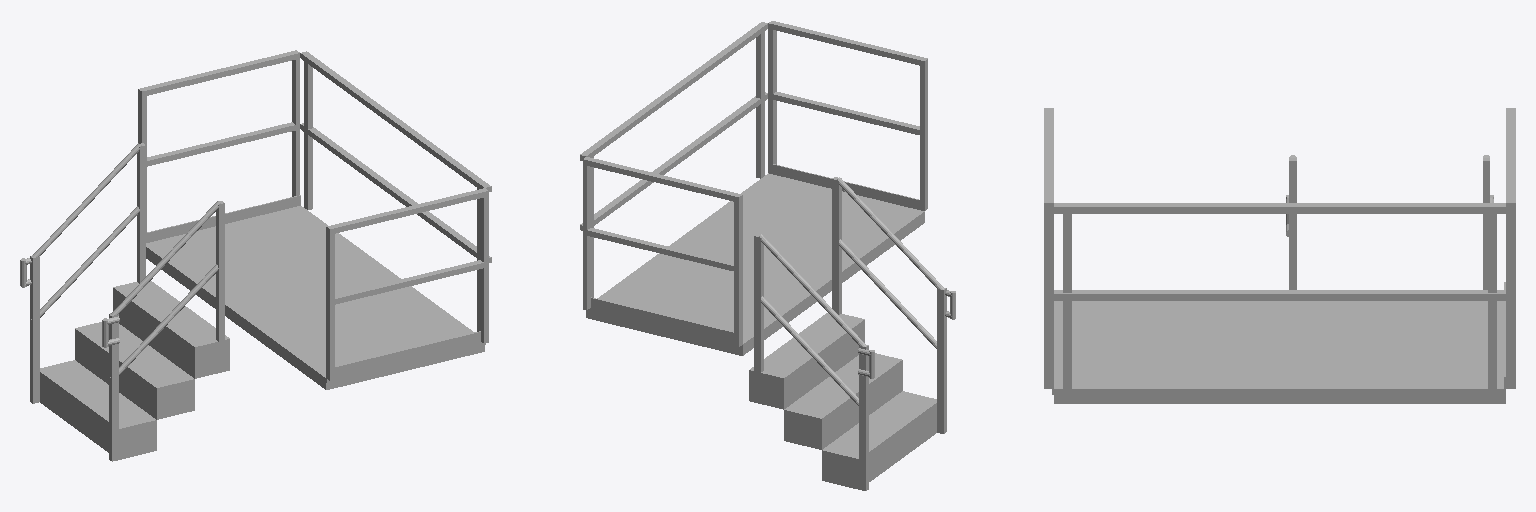
robot.urdf — drc-stair:
<?xml version="1.0"?>
<robot name="drc-stair"
       xmlns:xi="http://www.w3.org/2001/XInclude"
       >
  <gazebo>
    <static>false</static>
  </gazebo>
  <link name="nil_link">
    <visual>
      <origin xyz="0 0 0" rpy="0 -0 0"/>
      <geometry>
        <mesh filename="model://drc-stair/meshes/nil_link_mesh.dae" scale="1 1 1" />
      </geometry>
    </visual>
    <collision>
      <origin xyz="0 0 0" rpy="0 -0 0"/>
      <geometry>
        <mesh filename="model://drc-stair/meshes/nil_link_mesh.dae" scale="1 1 1" />
      </geometry>
    </collision>
    <inertial>
      <mass value="0.001" />
      <origin xyz="0 0 0" rpy="0 -0 0"/>
      <inertia ixx="1e-03" ixy="0" ixz="0" iyy="1e-03" iyz="0" izz="1e-03"/>
    </inertial>
  </link>
  <gazebo reference="nil_link">
    <mu1>0.9</mu1>
    <mu2>0.9</mu2>
  </gazebo>
</robot>

--- Facts derived from the render (not from the file) ---
The picture shows the robot from 3 angles, left to right: view 1: azimuth 30°, elevation 25°; view 2: azimuth 150°, elevation 25°; view 3: azimuth 270°, elevation 25°; orthographic projection.
Robot: drc-stair — 1 links, 0 joints (none); root link nil_link; default pose: every joint at zero.
Visible links, largest first — view 1: nil_link; view 2: nil_link; view 3: nil_link.
Boxes of the visible links, box(x1,y1,x2,y2) form: nil_link: box(20, 50, 491, 461); nil_link: box(580, 21, 955, 490); nil_link: box(1044, 108, 1515, 403).
Bounding box of the posed robot: 2.23 × 2.53 × 2.01 m (x, y, z).
1 mesh visuals loaded from 1 distinct referenced files (1 Collada DAE).